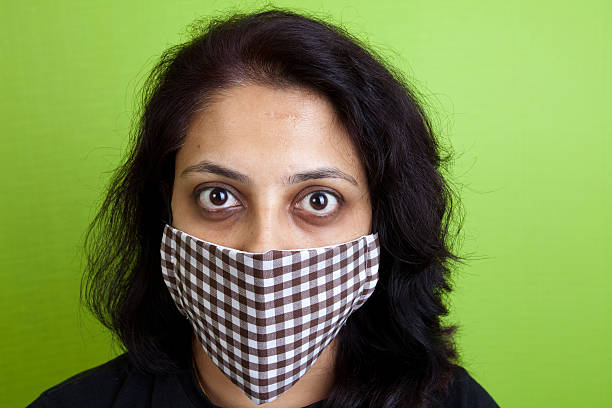mask: (160, 229, 382, 403)
